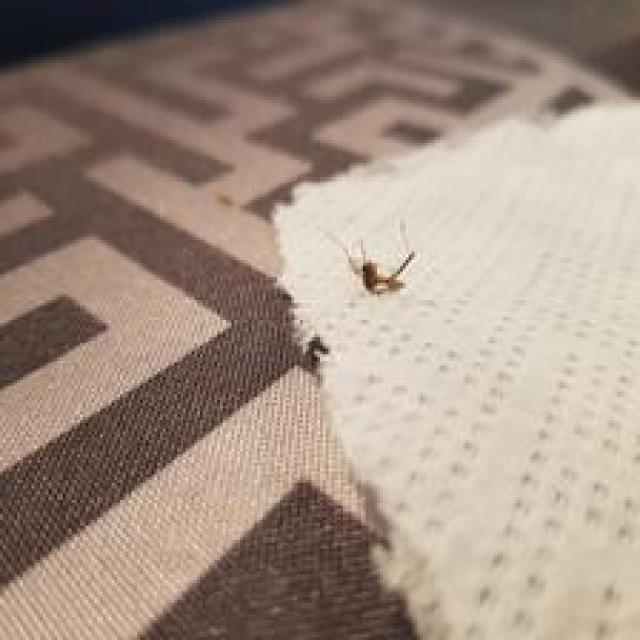Culex: (320, 223, 417, 297)
